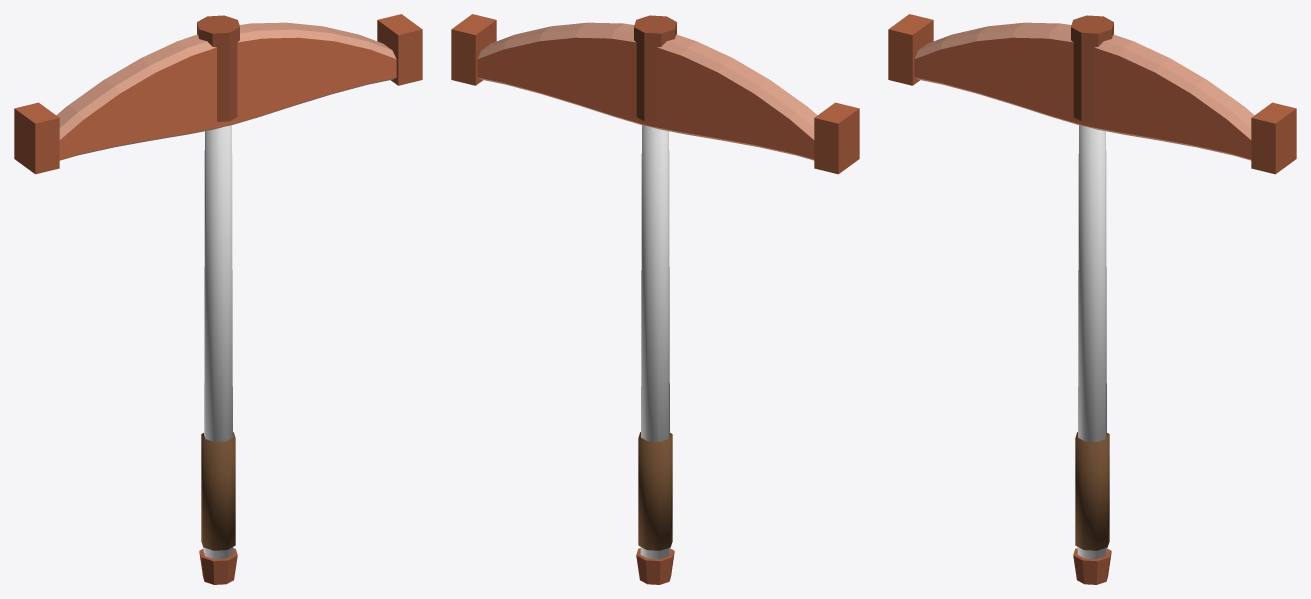
Rendered from palladium_pickaxe.glb.
3 views of the same model, side by side, from view 1: azimuth 30°, elevation 25°; view 2: azimuth 150°, elevation 25°; view 3: azimuth 330°, elevation 25° (orthographic).
Visible parts, largest first — view 1: palladium_pickaxe_v0; view 2: palladium_pickaxe_v0; view 3: palladium_pickaxe_v0.
Part boxes in pixels (x1,y1,x2,y2): palladium_pickaxe_v0: (14, 14, 422, 584); palladium_pickaxe_v0: (451, 14, 859, 584); palladium_pickaxe_v0: (888, 14, 1296, 584).
Size of the model in its own units: 0.64 by 0.875 by 0.064.
